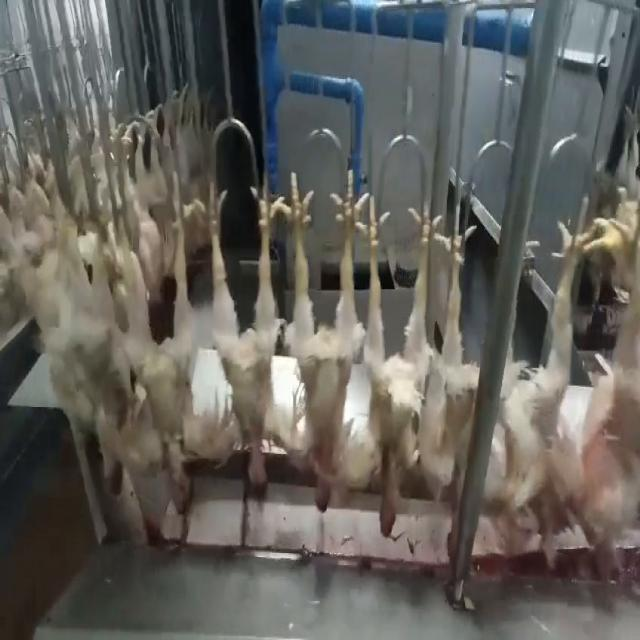chicken: (489, 192, 590, 548), (282, 176, 371, 516), (199, 173, 291, 501), (349, 198, 434, 536), (579, 124, 639, 555), (126, 169, 194, 521), (418, 198, 482, 501)
